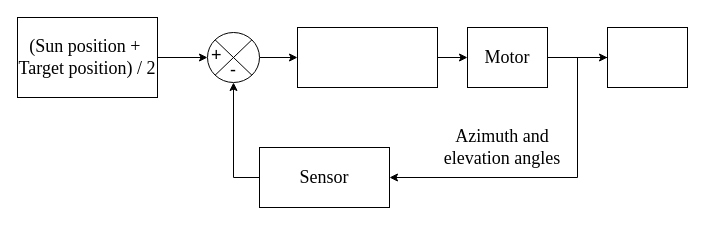
This 705x225 diagram has some shape labels left out. Here are the shapes that lost their labels. From the top down, the box of each, then its label:
(296, 26, 438, 88): Microcontroller
(606, 26, 688, 88): Mirror position
